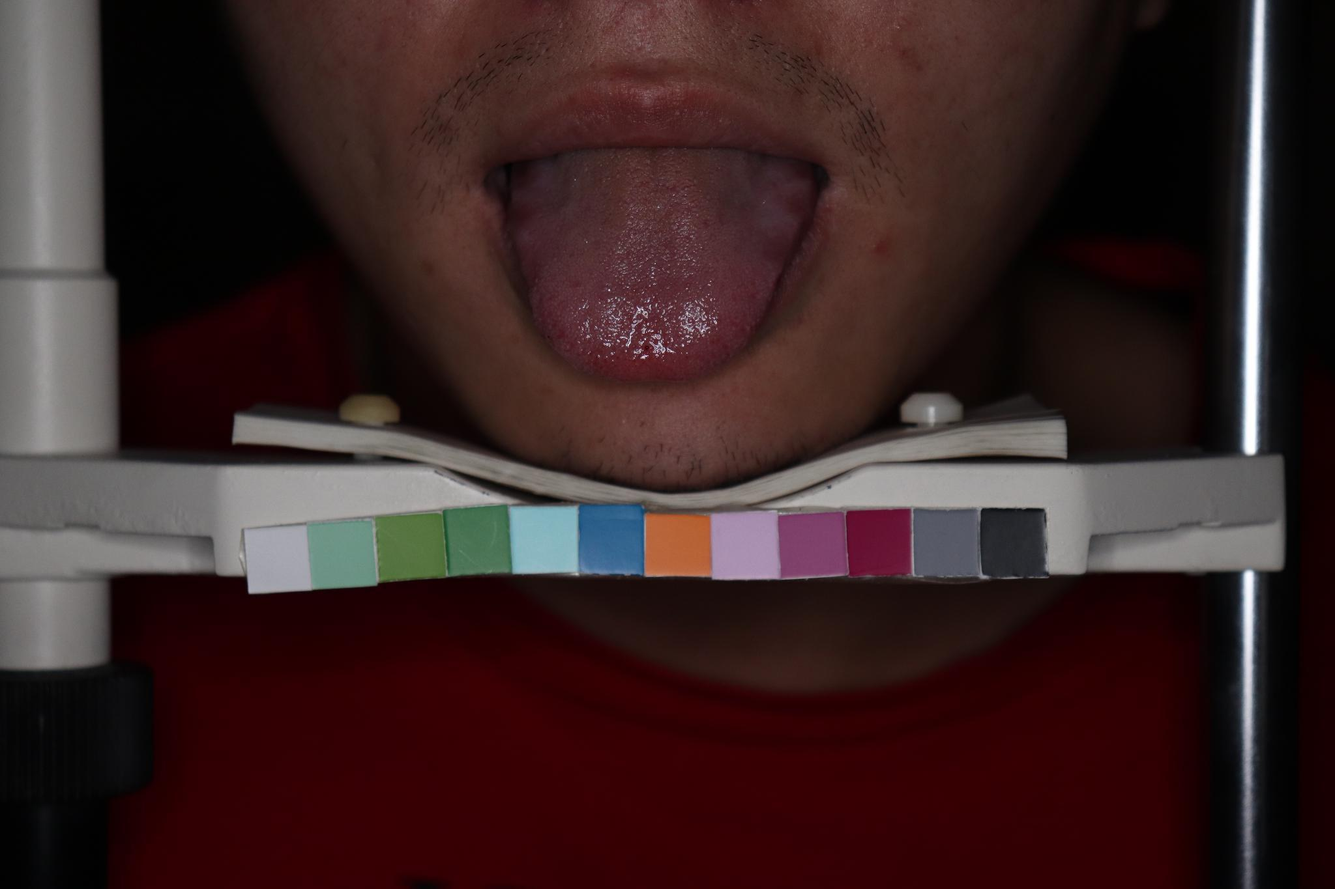baitaishe: (506, 148, 816, 379)
chihenshe: (763, 178, 815, 276), (506, 178, 547, 298)
hongshe: (506, 148, 815, 379)
